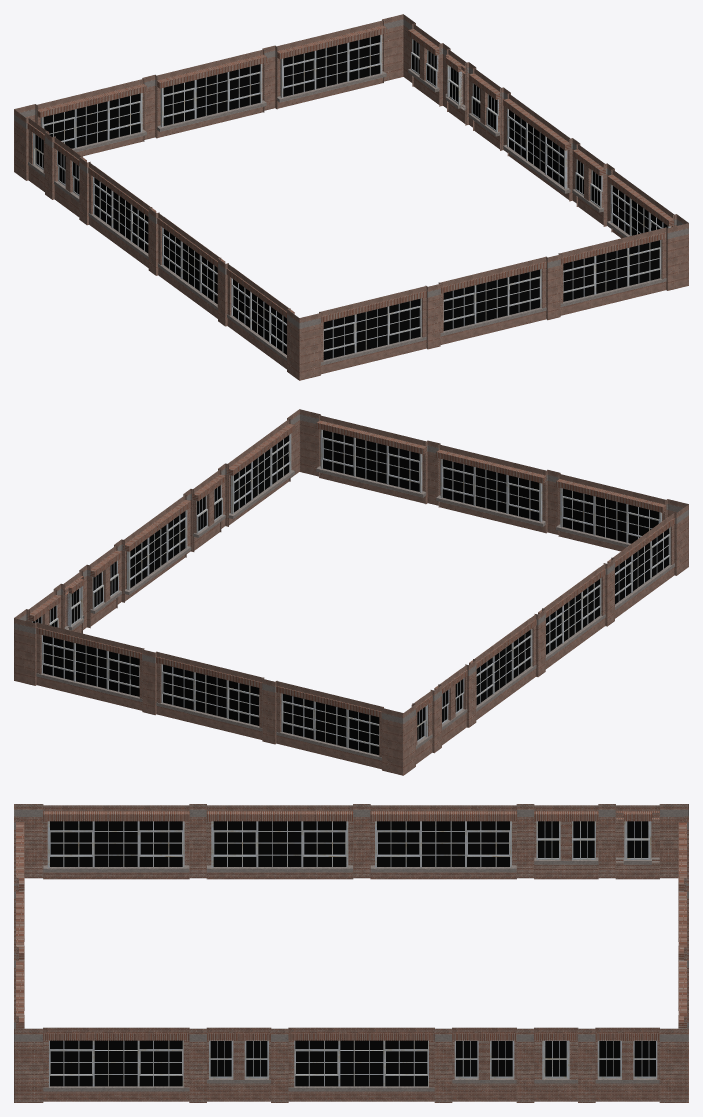
The model's file is BuildingE_Mid_Shell_VarB.fbx.
The picture shows the model from 3 angles, top to bottom: view 1: azimuth 30°, elevation 25°; view 2: azimuth 150°, elevation 25°; view 3: azimuth 270°, elevation 25°; orthographic projection. The views are drawn at different scales.
Visible parts, largest first — view 1: BuildingE_Mid_Shell_VarB; view 2: BuildingE_Mid_Shell_VarB; view 3: BuildingE_Mid_Shell_VarB.
Part boxes in pixels (bbox=[...]): BuildingE_Mid_Shell_VarB: bbox=[14, 14, 688, 380]; BuildingE_Mid_Shell_VarB: bbox=[14, 409, 688, 775]; BuildingE_Mid_Shell_VarB: bbox=[14, 804, 688, 1102].
Size of the model in its own units: 2600 by 400 by 3300.
